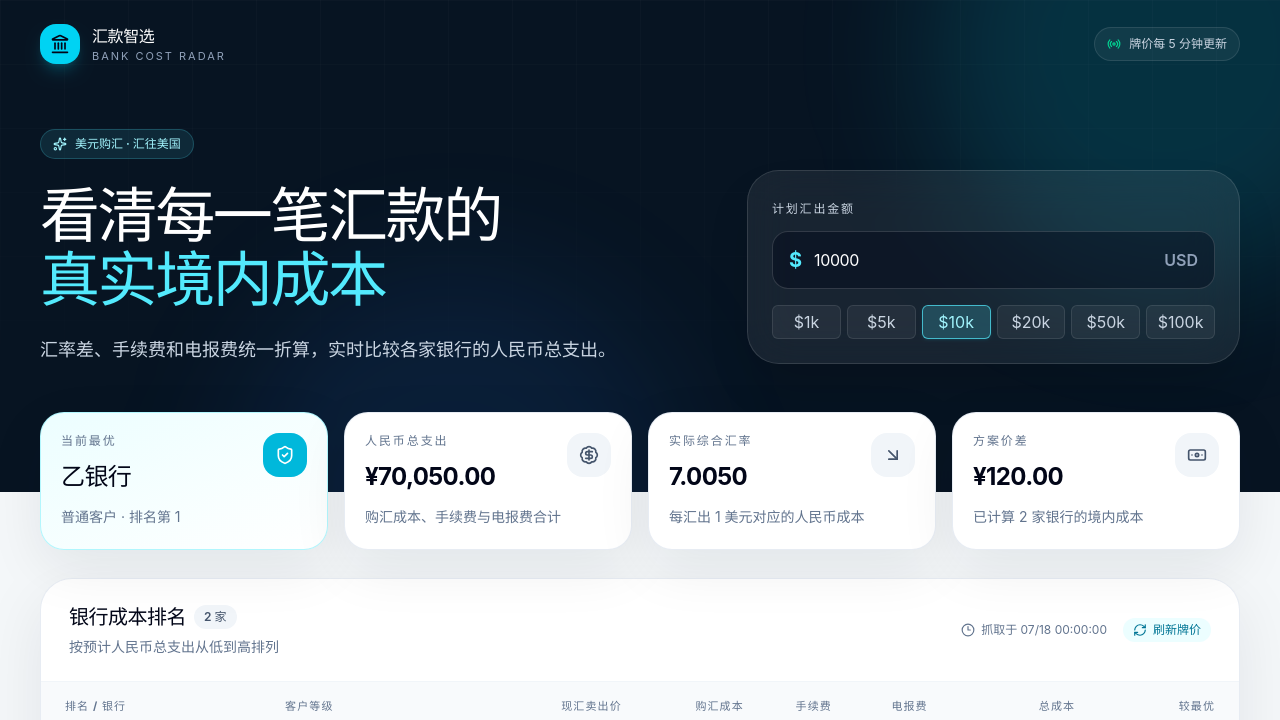
comparison UI › fills the amount from a quick-select button
What coordinates should you click on to do the following:
click the button named "快速选择 5000 美元"
I would click on:
 (881, 322)
Its box is [847,305,916,339].
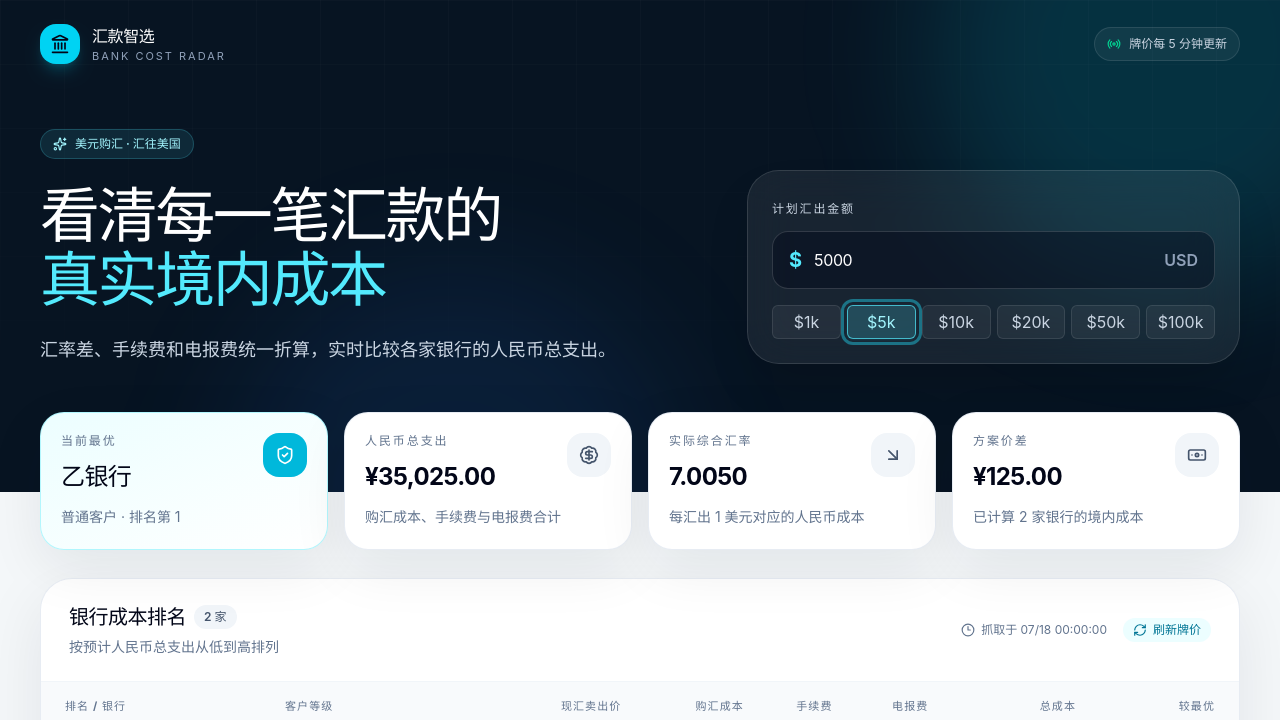
Check: the number field labelled "计划汇出金额" holds "5000", box [802,232,1164,288]
